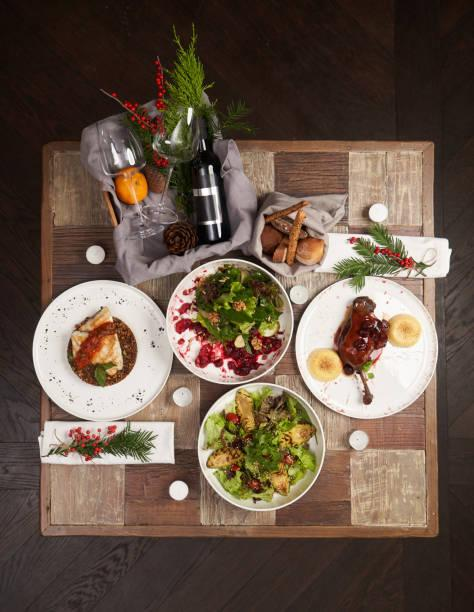Braised Crucian Carp: (294, 277, 436, 419), (30, 279, 170, 420), (169, 259, 297, 388), (201, 387, 329, 516), (246, 188, 348, 275)
